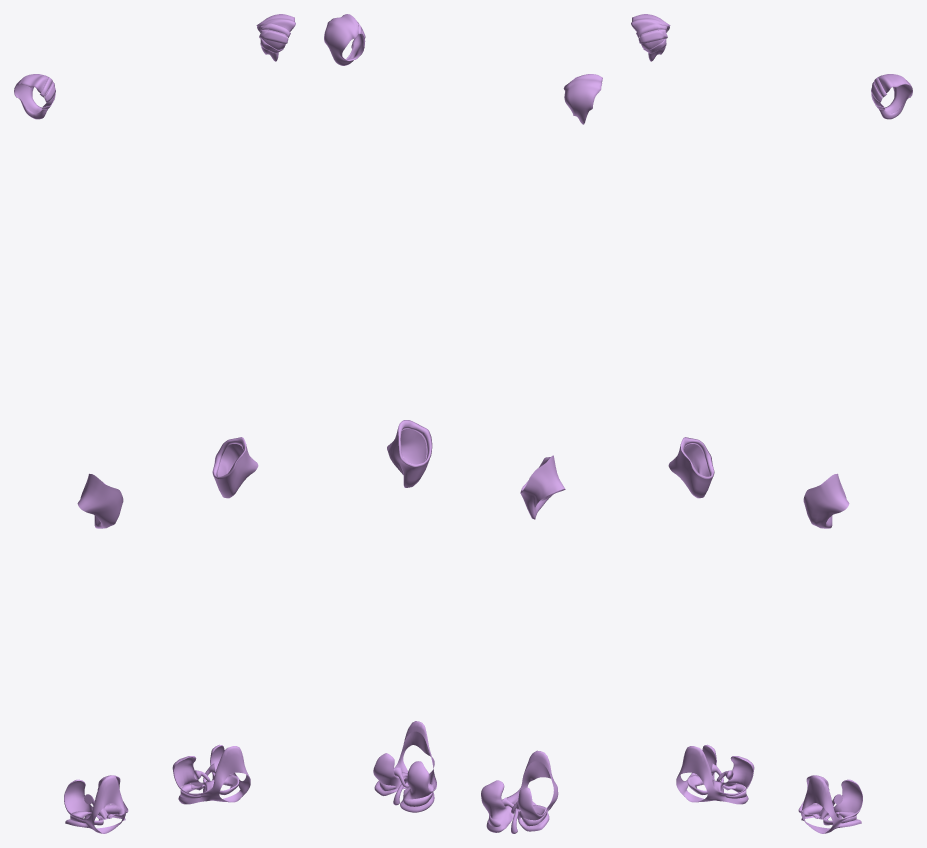
File: major_joints_reference.glb
3 renders of one model, left to right at view 1: azimuth 30°, elevation 25°; view 2: azimuth 150°, elevation 25°; view 3: azimuth 330°, elevation 25°, orthographic.
Visible parts, largest first — view 1: Articular capsule of knee joint.l, Articular capsule of knee joint.r, Articular capsule of hip joint.r, Articular capsule of hip joint.l, Articular capsule of glenohumeral joint.r, Articular capsule of glenohumeral joint.l; view 2: Articular capsule of knee joint.r, Articular capsule of knee joint.l, Articular capsule of hip joint.l, Articular capsule of glenohumeral joint.l, Articular capsule of hip joint.r, Articular capsule of glenohumeral joint.r, Acetabular labrum.l; view 3: Articular capsule of knee joint.r, Articular capsule of knee joint.l, Articular capsule of hip joint.l, Articular capsule of hip joint.r, Articular capsule of glenohumeral joint.l, Articular capsule of glenohumeral joint.r.
Boxes of the visible parts, x1,y1,x2,y2 form: Articular capsule of knee joint.l: (172,744,250,804); Articular capsule of knee joint.r: (64,775,128,833); Articular capsule of hip joint.r: (77,474,123,528); Articular capsule of hip joint.l: (214,444,258,498); Articular capsule of glenohumeral joint.r: (14,74,55,119); Articular capsule of glenohumeral joint.l: (256,14,295,61); Articular capsule of knee joint.r: (481,750,558,832); Articular capsule of knee joint.l: (373,721,436,812); Articular capsule of hip joint.l: (387,429,431,487); Articular capsule of glenohumeral joint.l: (324,14,364,65); Articular capsule of hip joint.r: (521,455,565,519); Articular capsule of glenohumeral joint.r: (563,74,602,124); Acetabular labrum.l: (398,420,432,467); Articular capsule of knee joint.r: (676,744,754,804); Articular capsule of knee joint.l: (798,775,862,833); Articular capsule of hip joint.l: (803,474,849,528); Articular capsule of hip joint.r: (668,444,712,498); Articular capsule of glenohumeral joint.l: (871,74,912,119); Articular capsule of glenohumeral joint.r: (631,14,670,61).
Size of the model in its own units: 0.3731 by 0.9956 by 0.0868.
